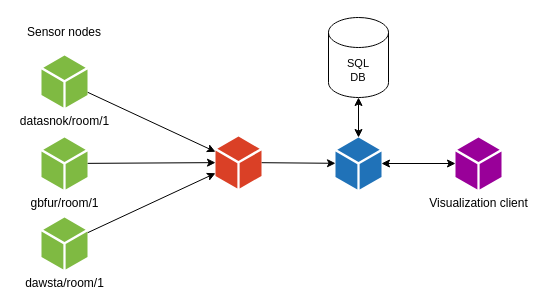
This 545x308 diagram has some shape labels left out. Here are the shapes that lost their labels. From the top down, the box of each, then its label:
(215, 136, 261, 188): MQTT broker
(335, 137, 381, 189): Ingest node
